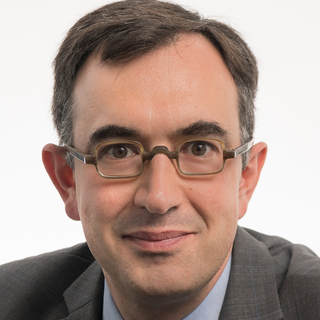eye: (178, 138, 223, 162), (98, 140, 142, 164)
